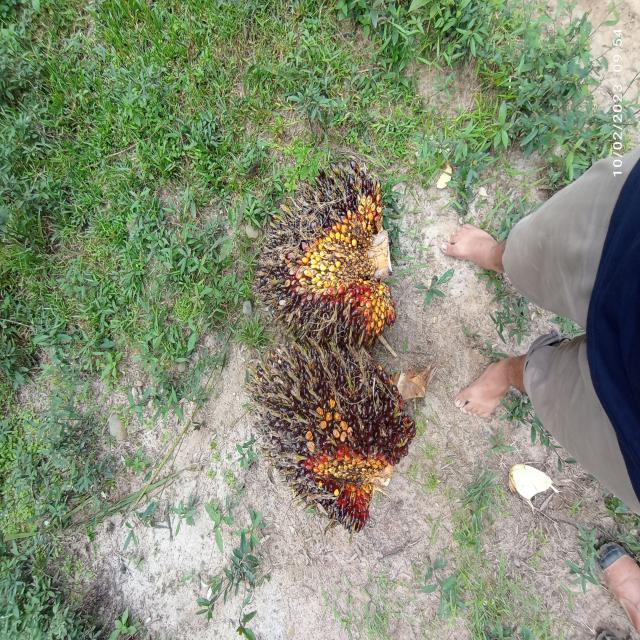fraksi 00: (222, 353, 436, 541), (231, 158, 428, 353)
